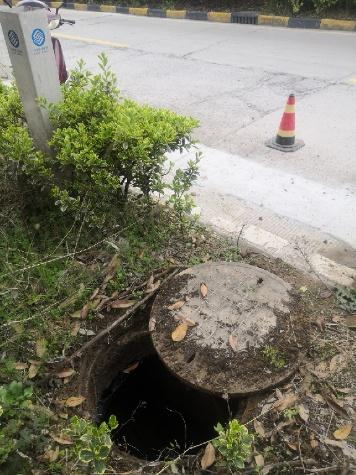wellcover: (89, 255, 310, 463)
